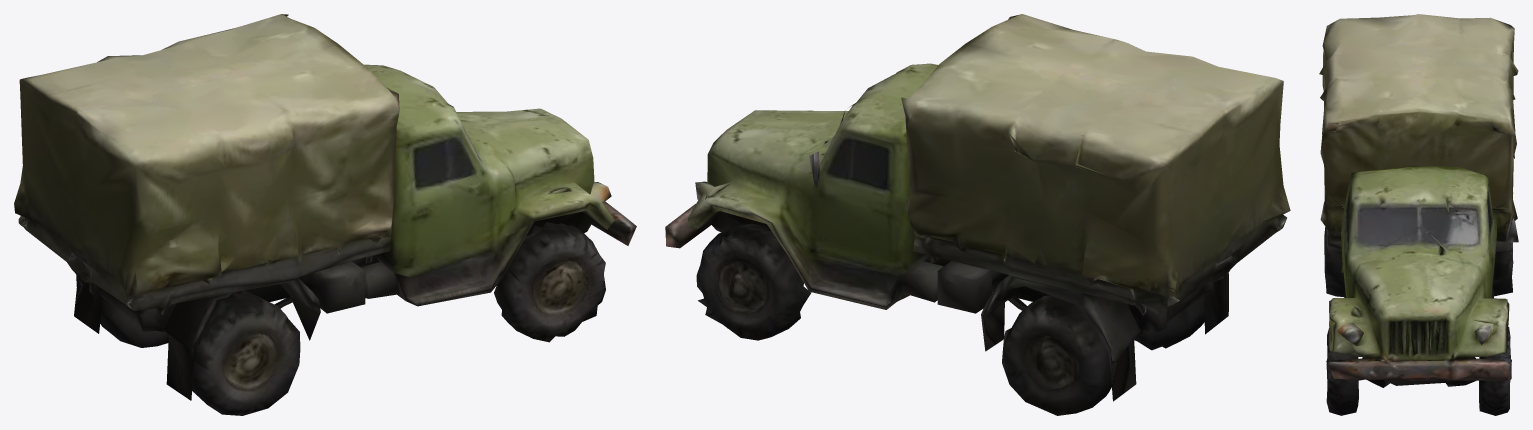
The model's file is e_ural.glb.
The picture shows the model from 3 angles, left to right: view 1: azimuth 30°, elevation 25°; view 2: azimuth 150°, elevation 25°; view 3: azimuth 270°, elevation 25°; orthographic projection. The views are drawn at different scales.
Parts seen in each view (by area): view 1: tripo_node_c30287b9-cfbe-4b9e-b8f1-a863a7e54522; view 2: tripo_node_c30287b9-cfbe-4b9e-b8f1-a863a7e54522; view 3: tripo_node_c30287b9-cfbe-4b9e-b8f1-a863a7e54522.
Part boxes in pixels (x1,y1,x2,y2): tripo_node_c30287b9-cfbe-4b9e-b8f1-a863a7e54522: [14, 14, 636, 415]; tripo_node_c30287b9-cfbe-4b9e-b8f1-a863a7e54522: [665, 14, 1290, 415]; tripo_node_c30287b9-cfbe-4b9e-b8f1-a863a7e54522: [1319, 14, 1518, 415].
Bounding box in the file's own units: 1 × 0.5533 × 0.427.
Materials: 1 (1 with a texture image).
